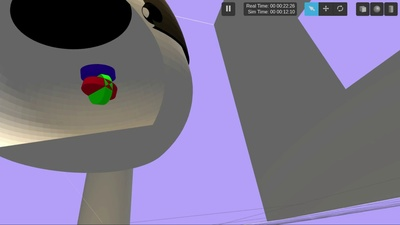mira_robot: (1, 1, 193, 173)
